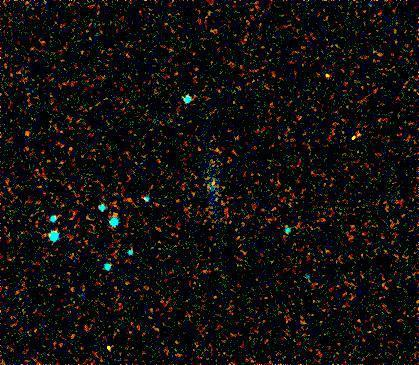star: (199, 167, 229, 197)
